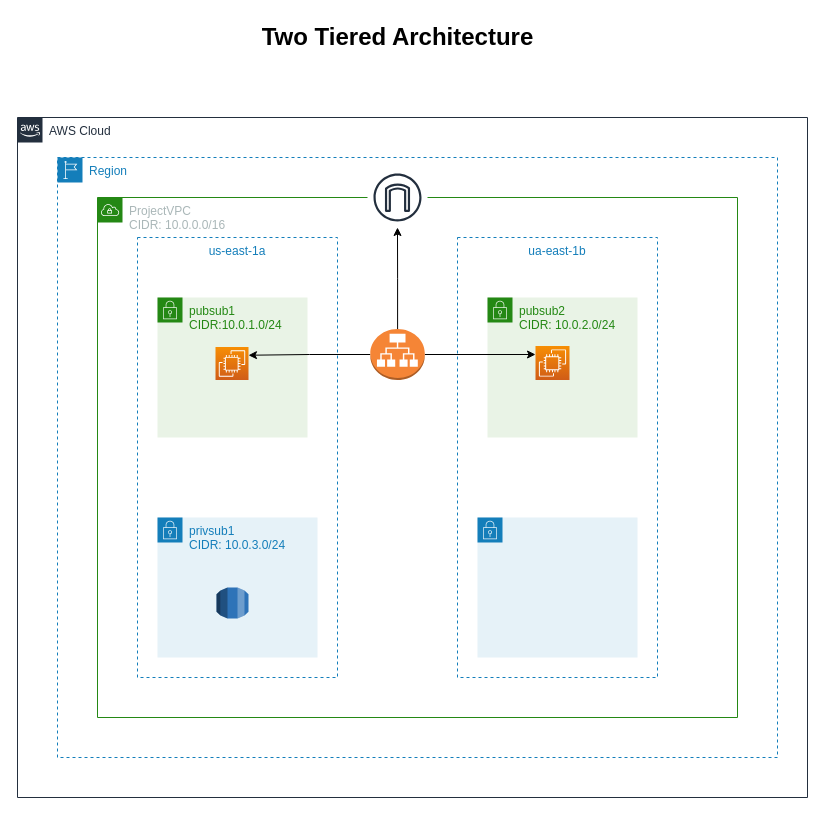
Some shapes in this 825 by 815 pixel diagram are drawn without their labels. The shapes that lost their labels are listed below. From the top down, each one's centre as x and y in pixels, then its label:
At (x=397, y=197): "Internet gateway".
At (x=397, y=354): "ELB".
At (x=232, y=602): "RDS".
At (x=557, y=587): "pubsub2 CIDR: 10.0.4.0/24".
